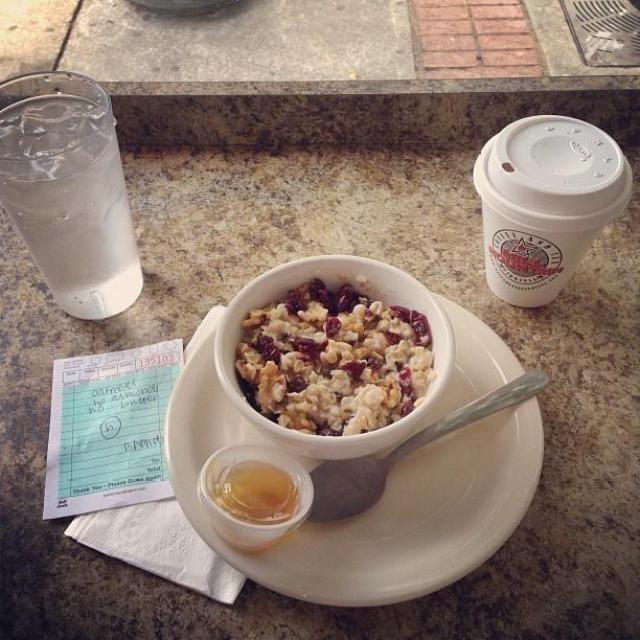cup-disposable: (472, 111, 636, 310)
glass-normal: (1, 74, 150, 323)
